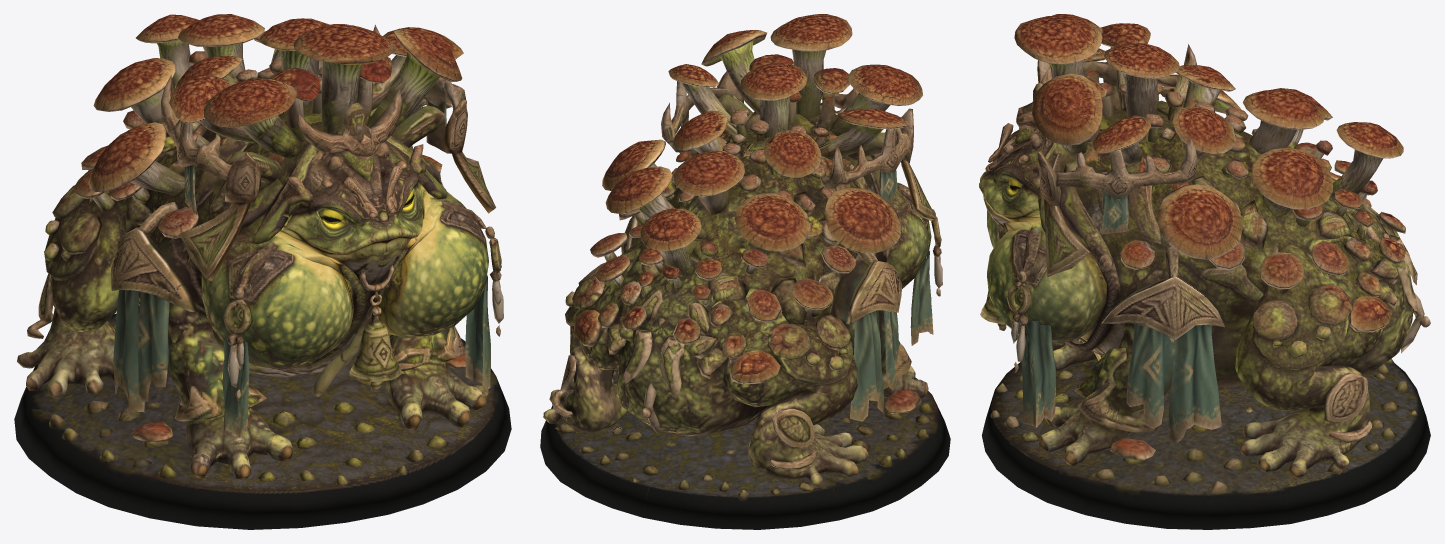
File: Blightgullet.fbx
3 renders of one model, left to right at view 1: azimuth 30°, elevation 25°; view 2: azimuth 150°, elevation 25°; view 3: azimuth 270°, elevation 25°, orthographic. The views are drawn at different scales.
Parts seen in each view (by area): view 1: Mesh_0; view 2: Mesh_0; view 3: Mesh_0.
Boxes of the visible parts, x1,y1,x2,y2 form: Mesh_0: (14,14,511,529); Mesh_0: (540,14,950,529); Mesh_0: (979,14,1430,529).
Bounding box in the file's own units: 99.22 × 100 × 100.
Materials: 1 (1 with a texture image).
